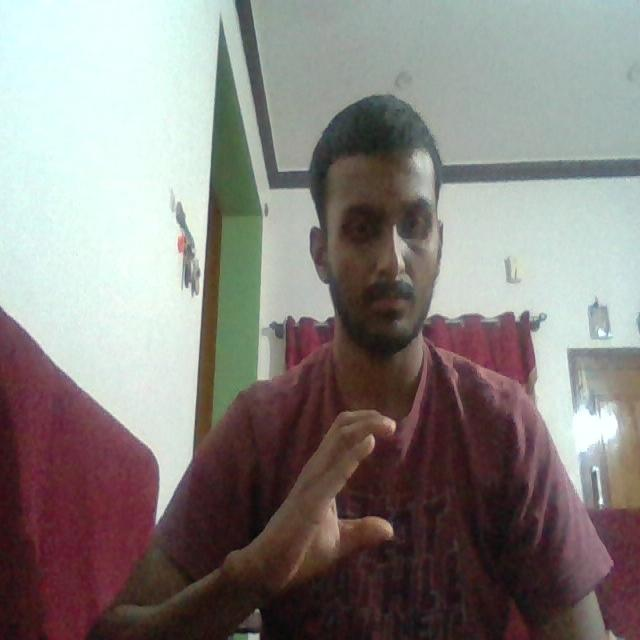no: (282, 400, 415, 592)
